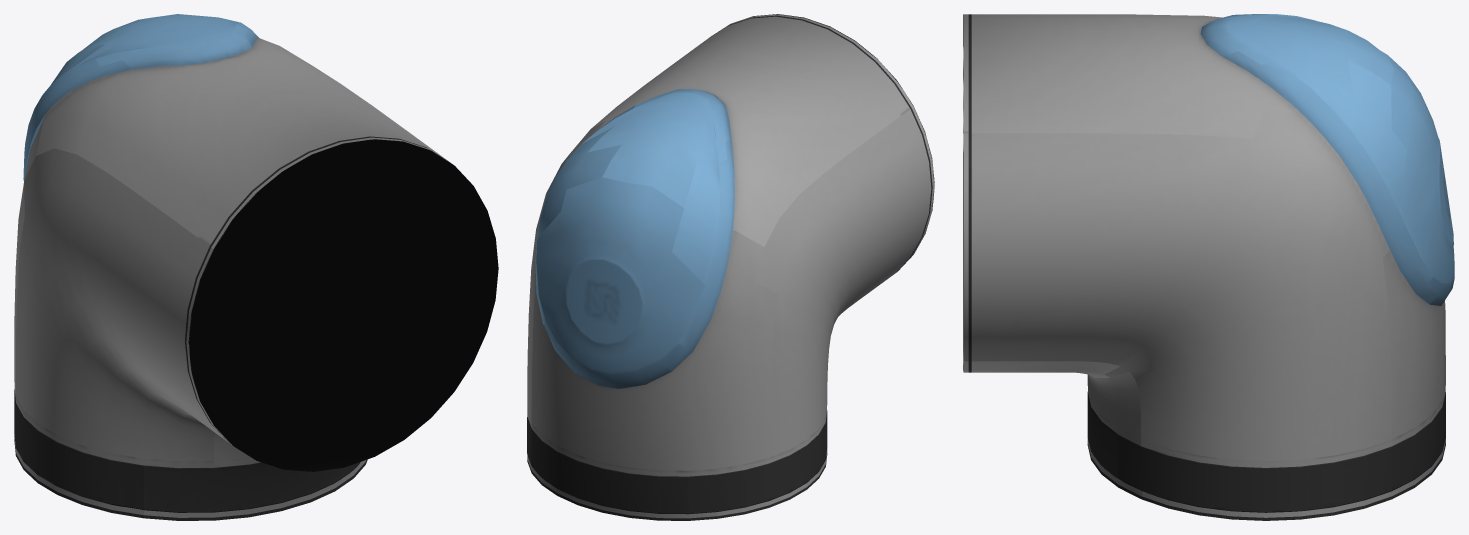
Rendered from wrist1.obj.
3 renders of one model, left to right at view 1: azimuth 30°, elevation 25°; view 2: azimuth 150°, elevation 25°; view 3: azimuth 270°, elevation 25°, orthographic. The views are drawn at different scales.
Bounding box in the file's own units: 0.1001 × 0.1292 × 0.1371.
Materials: 1 (1 with a texture image).
